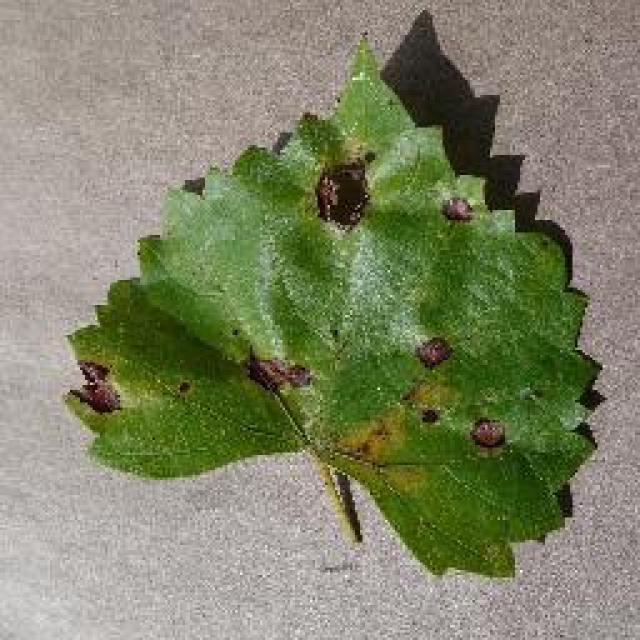Grape___Black_rot: (52, 26, 610, 586)
